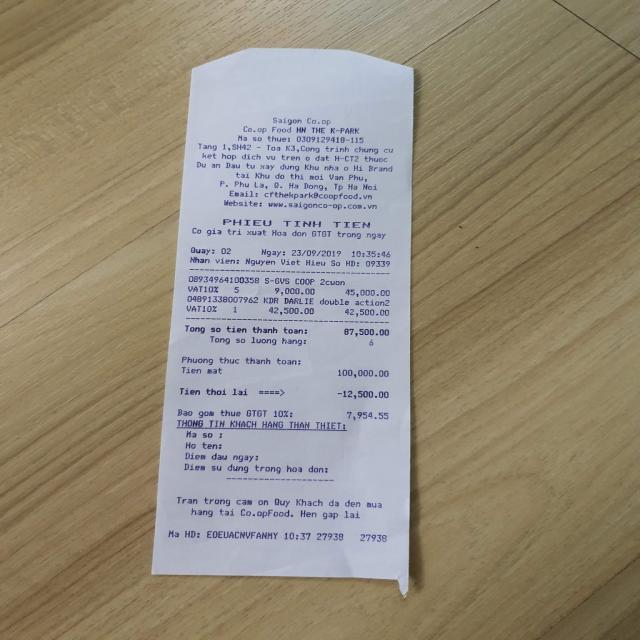Date: (294, 246, 344, 257)
Store_Name: (269, 115, 333, 126)
amount_number: (341, 324, 393, 339)
label_total: (186, 324, 305, 336)
